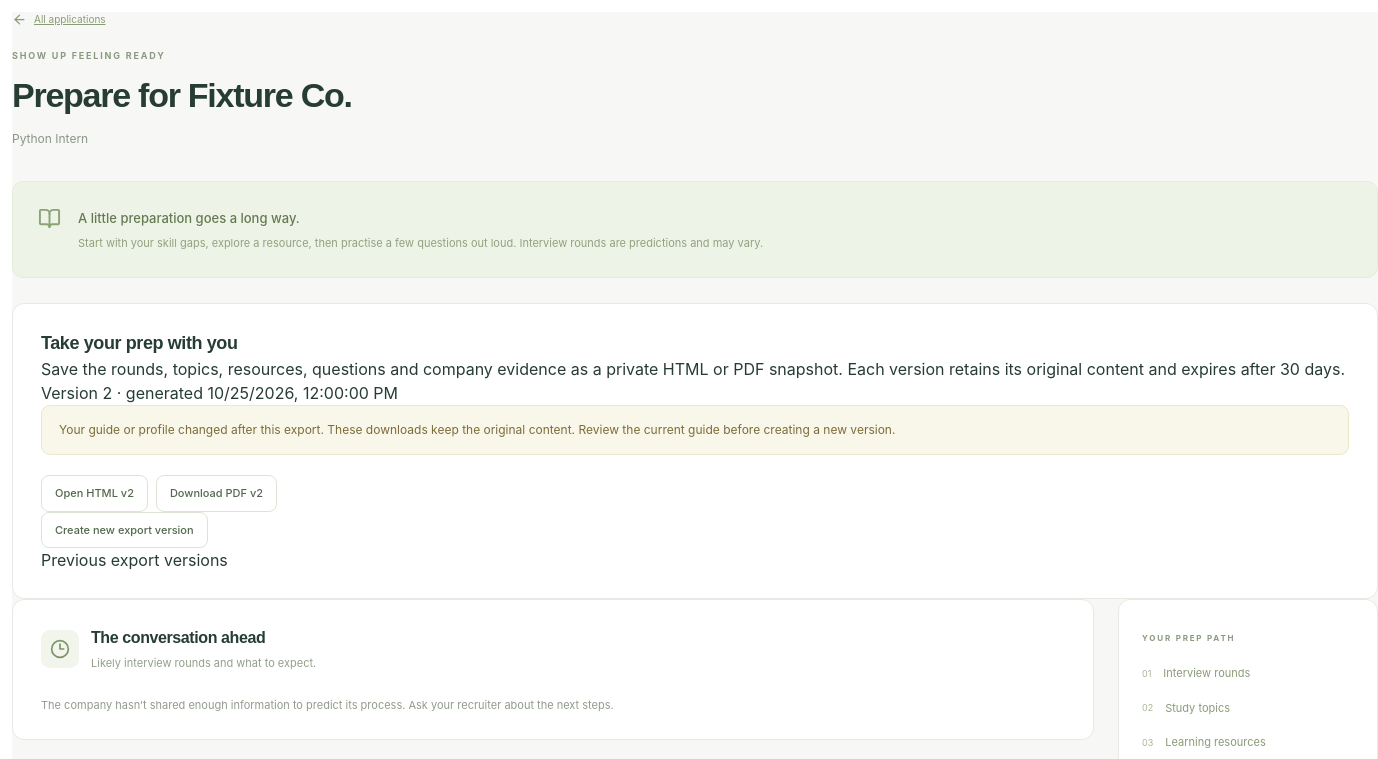
Test: private prep guide export controls › labels stale immutable snapshots and keeps previous version downloads
Expected: the text "Your guide or profile changed after this export" is shown, top-left (59, 422), bottom-right (895, 437)
Expected: the link "Download PDF v2" is shown, top-left (156, 475), bottom-right (277, 512)
Step 1. Click the heading "Previous export versions" → coordinates (134, 560), box top-left (41, 550), bottom-right (228, 570)
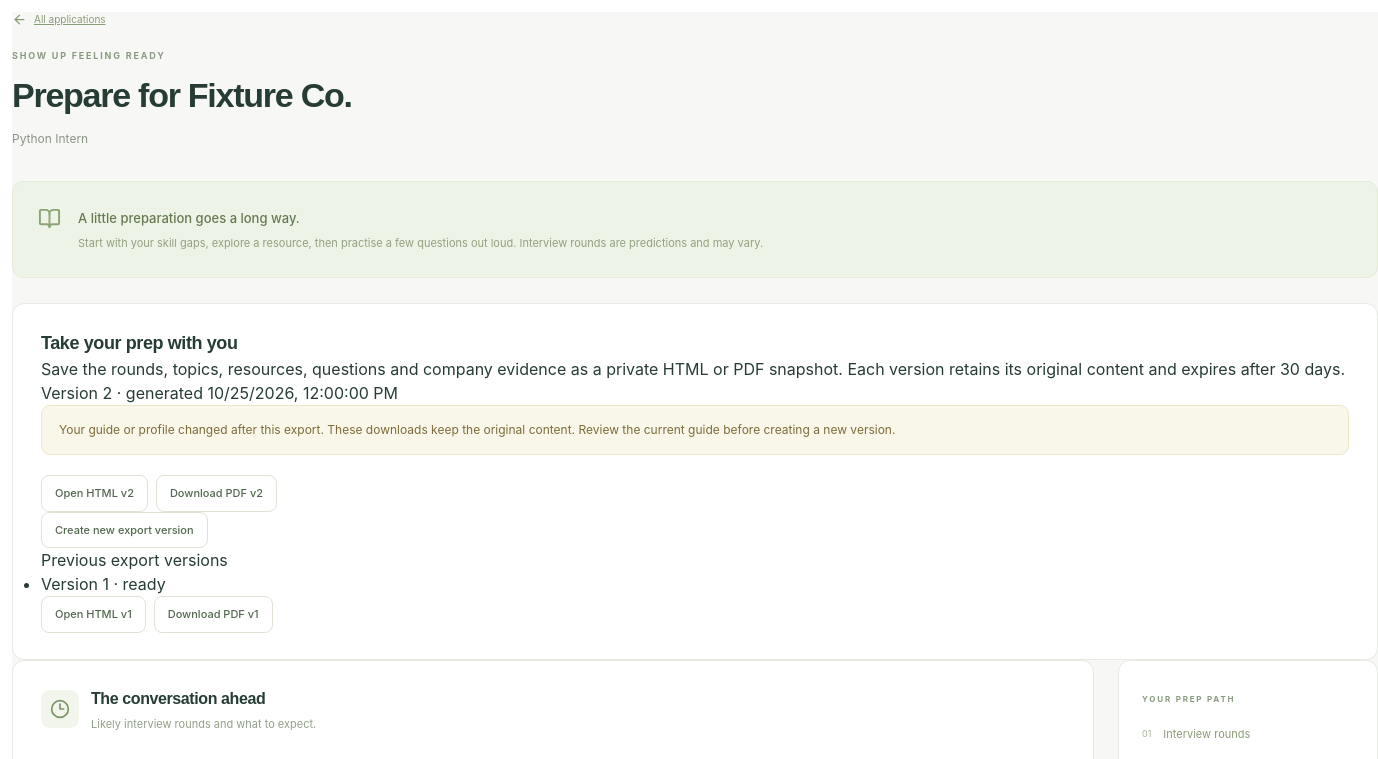
Expected: the link "Download PDF v1" is shown, top-left (154, 596), bottom-right (273, 633)
